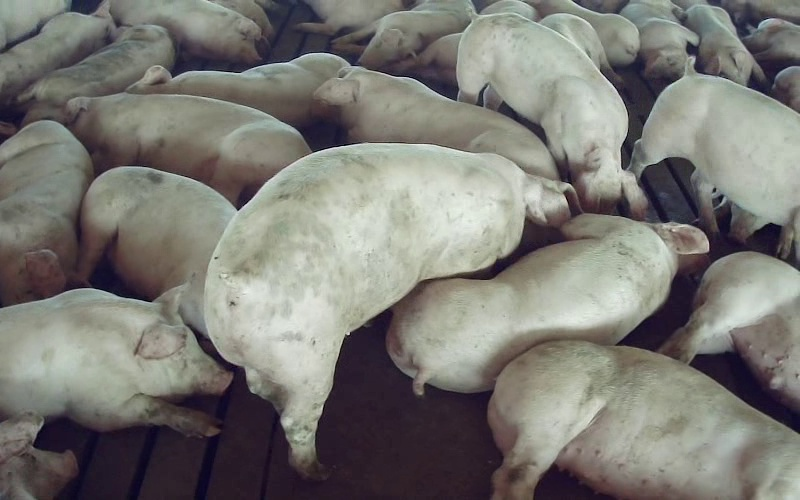pig: (488, 341, 799, 499), (458, 13, 646, 218), (0, 287, 231, 435), (631, 61, 799, 262), (65, 93, 310, 205), (313, 67, 558, 179), (79, 167, 235, 334), (659, 252, 799, 413), (0, 120, 92, 305), (127, 53, 348, 127), (17, 25, 175, 124), (0, 0, 117, 109), (110, 0, 262, 63), (685, 4, 765, 85), (620, 0, 698, 80)
